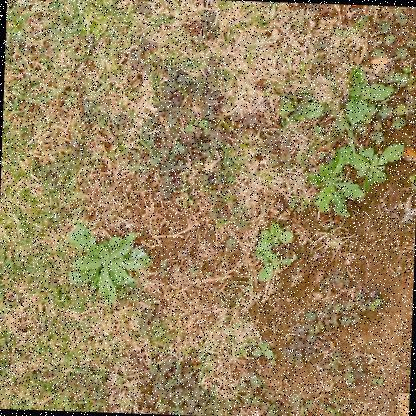Weeds: (65, 226, 153, 307), (305, 142, 365, 216), (343, 138, 404, 195), (345, 63, 396, 127), (254, 250, 292, 282), (256, 222, 294, 254), (280, 101, 324, 127), (250, 341, 273, 362)
